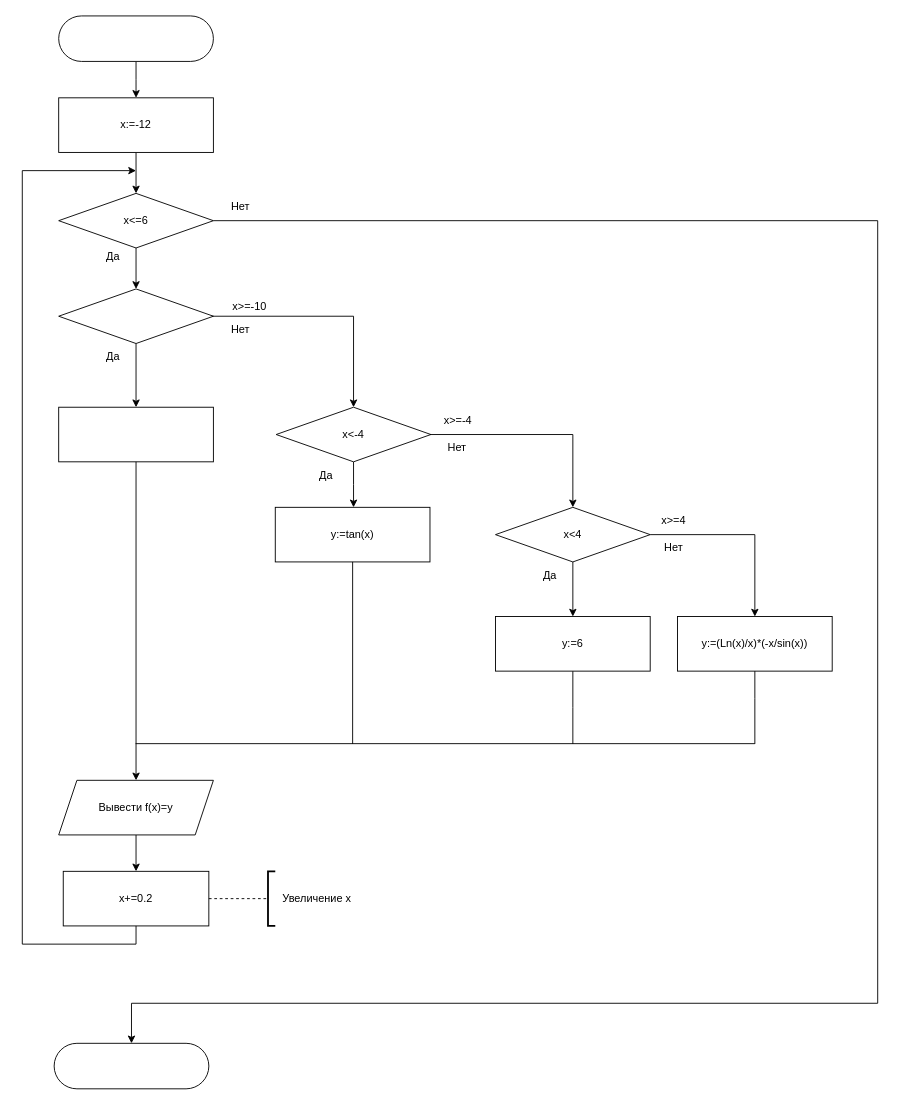
The diagram is 901 pixels wide and 1105 high, and some of its shapes have lost their labels. Here are the shapes that lost their labels. From the top down, the box of each, then its label:
(58, 15, 213, 61): Начало
(58, 288, 213, 344): x<-10
(58, 406, 213, 462): y:=(x**2/x**2)*(x**(0.1*x)/x**3)
(53, 1042, 209, 1089): Конец
